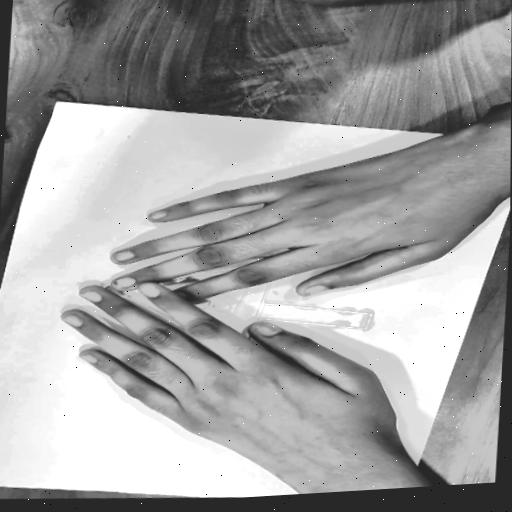signboard: (81, 232, 406, 377)
top_right: (46, 95, 63, 107)
